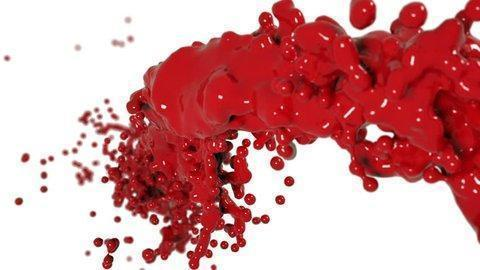Fire: (5, 145, 119, 270), (351, 0, 377, 28), (285, 176, 295, 186), (276, 196, 285, 204)
